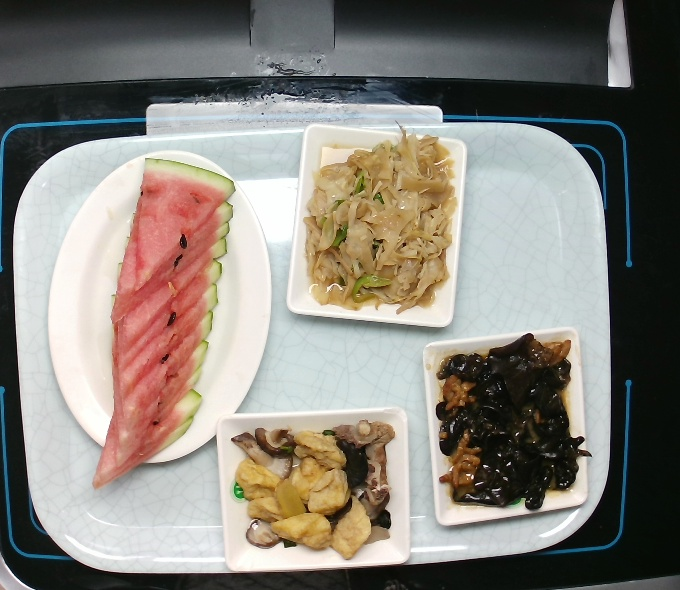wcq-LuSun: (303, 126, 464, 322)
wcq-MuErChaoRou: (438, 349, 576, 506)
wcq-XiGua: (93, 152, 237, 497)
wcq-YouPaoPaiGu: (224, 418, 399, 567)
